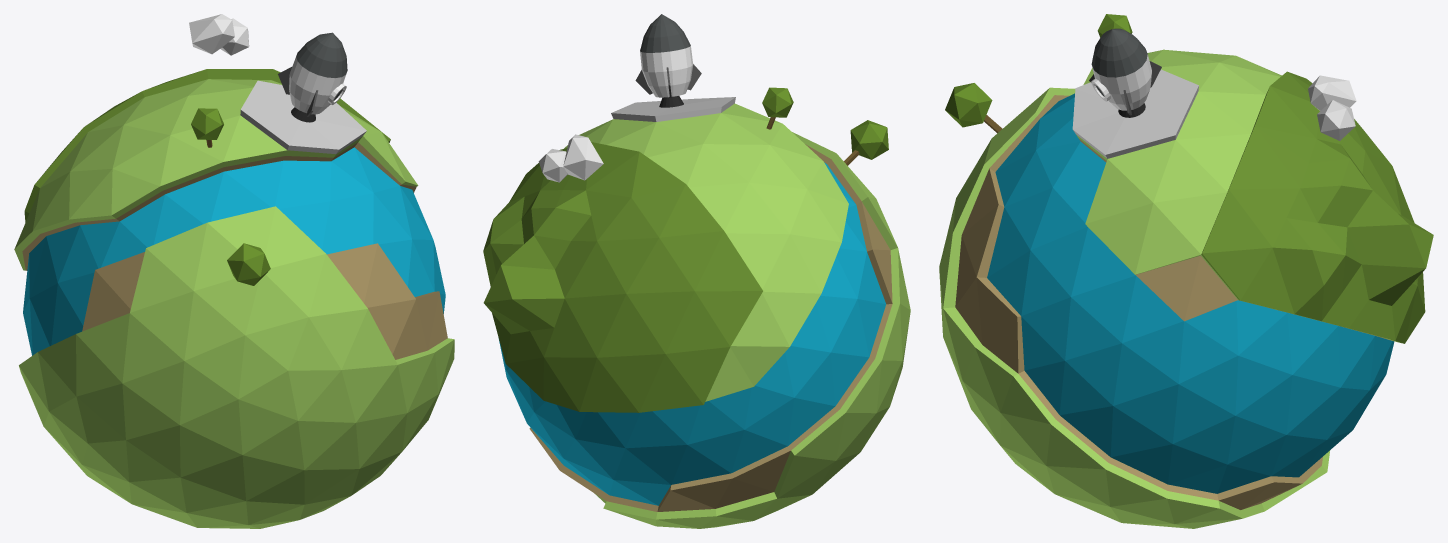
File: world.dae
3 views of the same model, side by side, from view 1: azimuth 30°, elevation 25°; view 2: azimuth 150°, elevation 25°; view 3: azimuth 270°, elevation 25° (orthographic). The views are drawn at different scales.
Visible parts, largest first — view 1: planet, rocket; view 2: planet, rocket; view 3: planet, rocket.
Part boxes in pixels (bbox=[...]): planet: bbox=[14, 14, 454, 528]; rocket: bbox=[289, 32, 347, 122]; planet: bbox=[483, 87, 910, 528]; rocket: bbox=[640, 14, 693, 107]; planet: bbox=[939, 14, 1433, 528]; rocket: bbox=[1091, 28, 1151, 117].
Size of the model in its own units: 20.72 by 22.04 by 25.08.
